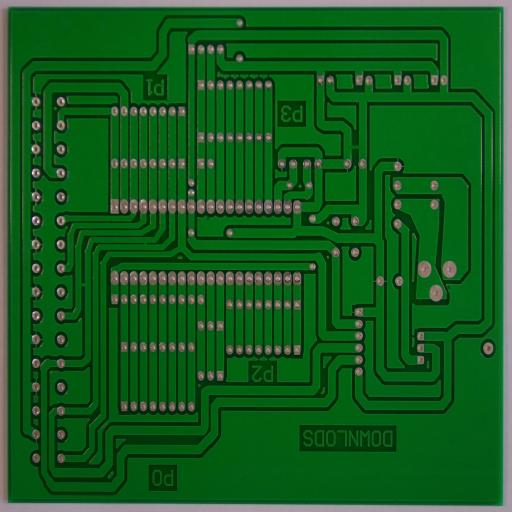short_circuit: (343, 136, 368, 159), (74, 275, 92, 295), (139, 235, 152, 251)
